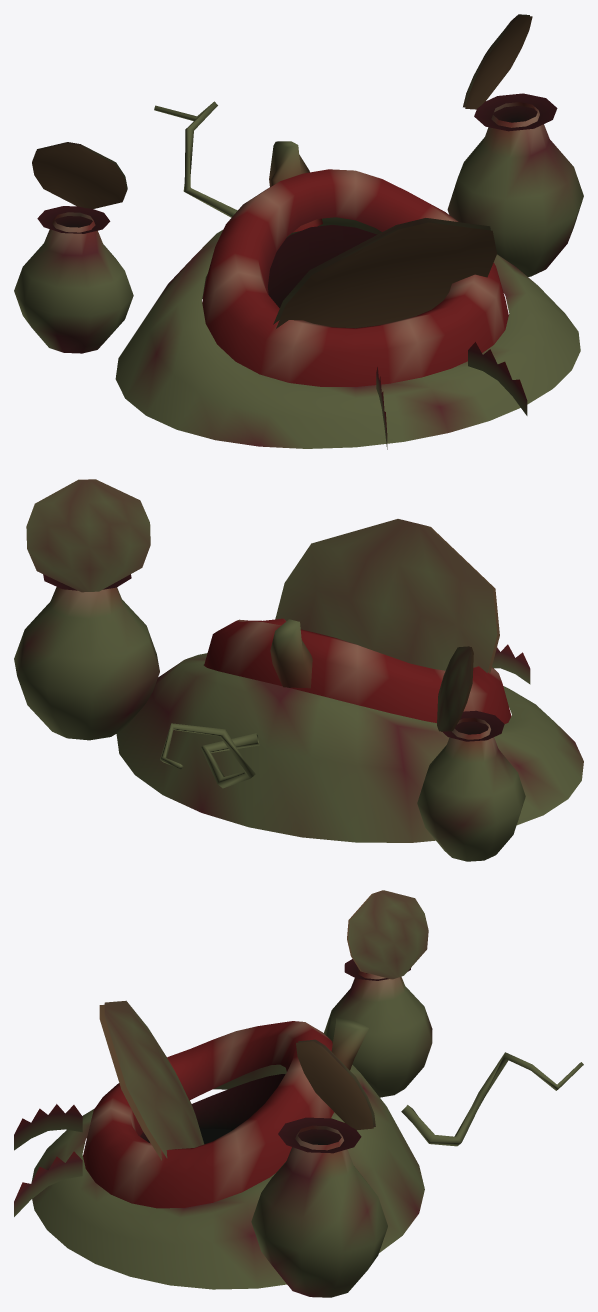
File: pitcher_lo.glb
3 views of the same model, one above another, from view 1: azimuth 30°, elevation 25°; view 2: azimuth 150°, elevation 25°; view 3: azimuth 270°, elevation 25° (orthographic). The views are drawn at different scales.
Parts seen in each view (by area): view 1: pitcher, pitcher_lid; view 2: pitcher, pitcher_lid; view 3: pitcher, pitcher_lid.
Boxes of the visible parts, <box> form: pitcher: <box>14,14,583,449</box>; pitcher_lid: <box>273,218,496,328</box>; pitcher: <box>14,479,583,861</box>; pitcher_lid: <box>275,519,499,673</box>; pitcher: <box>14,890,583,1297</box>; pitcher_lid: <box>99,1000,204,1160</box>.
Bounding box in the file's own units: 3.04 × 1.42 × 2.94.
